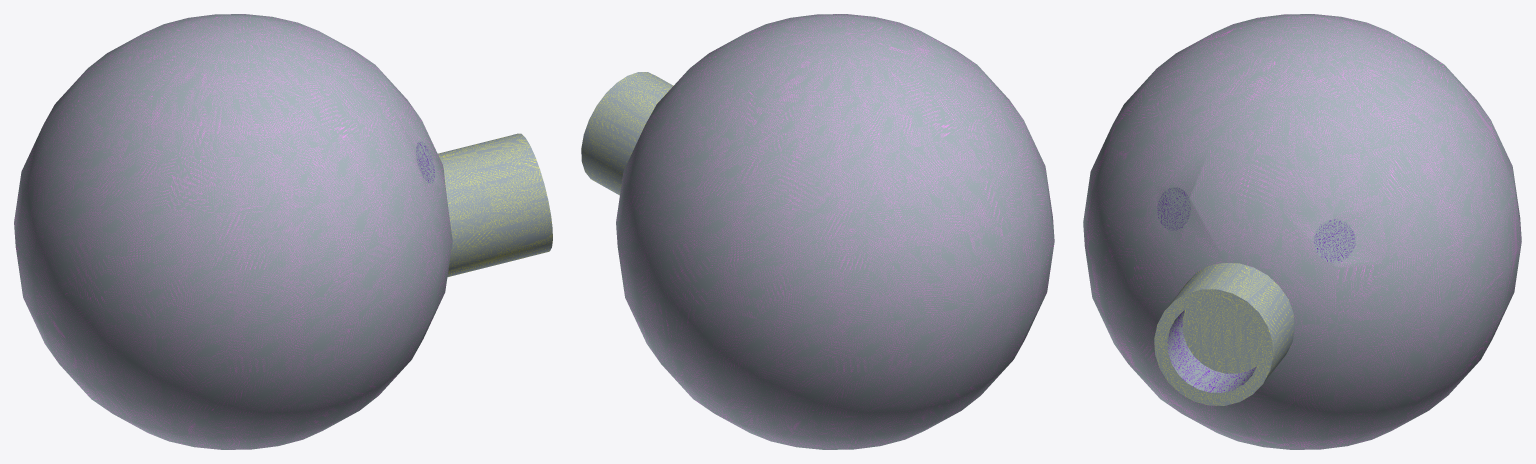
The model's file is bubbleBoss.fbx.
The picture shows the model from 3 angles, left to right: view 1: azimuth 30°, elevation 25°; view 2: azimuth 150°, elevation 25°; view 3: azimuth 270°, elevation 25°; orthographic projection.
Visible parts, largest first — view 1: Model; view 2: Model; view 3: Model.
Part boxes in pixels (bbox=[...]): Model: bbox=[14, 14, 552, 449]; Model: bbox=[581, 14, 1054, 449]; Model: bbox=[1083, 14, 1521, 449].
Bounding box in the file's own units: 24.29 × 20 × 20.06.
